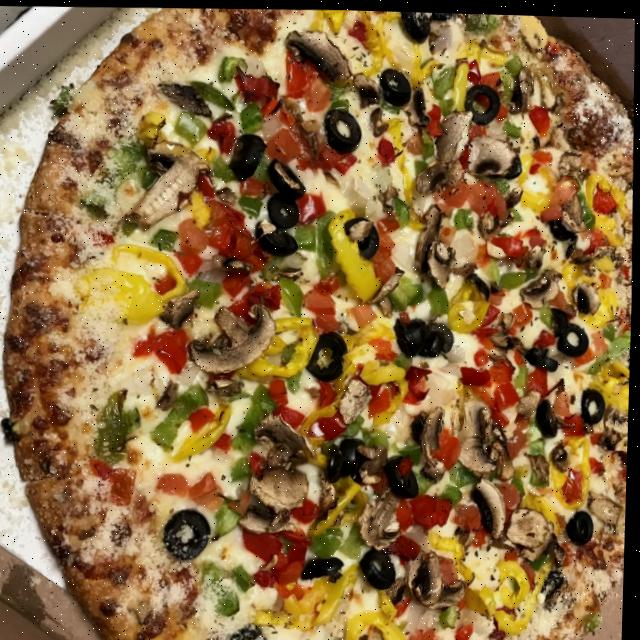black_olives: (162, 506, 217, 560), (306, 322, 357, 380), (394, 312, 456, 358), (225, 126, 270, 181), (324, 435, 368, 483), (264, 184, 308, 230), (322, 101, 362, 151), (267, 154, 311, 198), (341, 210, 383, 256), (459, 82, 505, 122), (385, 448, 421, 498), (251, 220, 300, 254), (302, 551, 350, 585), (362, 547, 401, 588), (376, 67, 416, 103), (222, 614, 276, 640), (555, 318, 593, 354), (579, 383, 613, 423), (536, 390, 565, 436), (566, 507, 602, 542), (394, 9, 431, 42), (527, 339, 561, 369), (547, 214, 576, 239), (551, 303, 572, 334), (426, 10, 457, 22), (311, 637, 356, 640)
mushrooms: (126, 141, 212, 234), (187, 299, 276, 376), (239, 456, 313, 537), (413, 98, 473, 197), (281, 25, 353, 89), (253, 408, 316, 469), (415, 200, 458, 286), (457, 394, 500, 476), (503, 503, 562, 558), (356, 487, 406, 548), (464, 130, 524, 179), (468, 472, 510, 537), (407, 542, 448, 605), (422, 400, 450, 482), (482, 304, 523, 360), (518, 264, 569, 308), (157, 284, 205, 330), (289, 88, 321, 156), (368, 263, 406, 317), (505, 55, 540, 113), (337, 372, 376, 424), (485, 416, 518, 477), (495, 12, 551, 47), (423, 16, 463, 64), (355, 439, 393, 486), (542, 563, 578, 610), (559, 119, 587, 178), (599, 397, 631, 447), (585, 485, 629, 521), (388, 560, 423, 604), (435, 573, 472, 612), (551, 208, 587, 245), (516, 230, 548, 270), (151, 374, 184, 411), (571, 238, 614, 266), (349, 68, 381, 105), (208, 369, 246, 400), (571, 275, 602, 313), (212, 247, 252, 275), (549, 436, 579, 473), (316, 476, 345, 512), (524, 446, 556, 476), (516, 383, 543, 418), (365, 102, 393, 135), (477, 206, 505, 239), (373, 179, 399, 211), (345, 214, 377, 239), (257, 547, 286, 568), (275, 267, 304, 280), (274, 639, 308, 640)
pizza: (0, 0, 640, 640)
